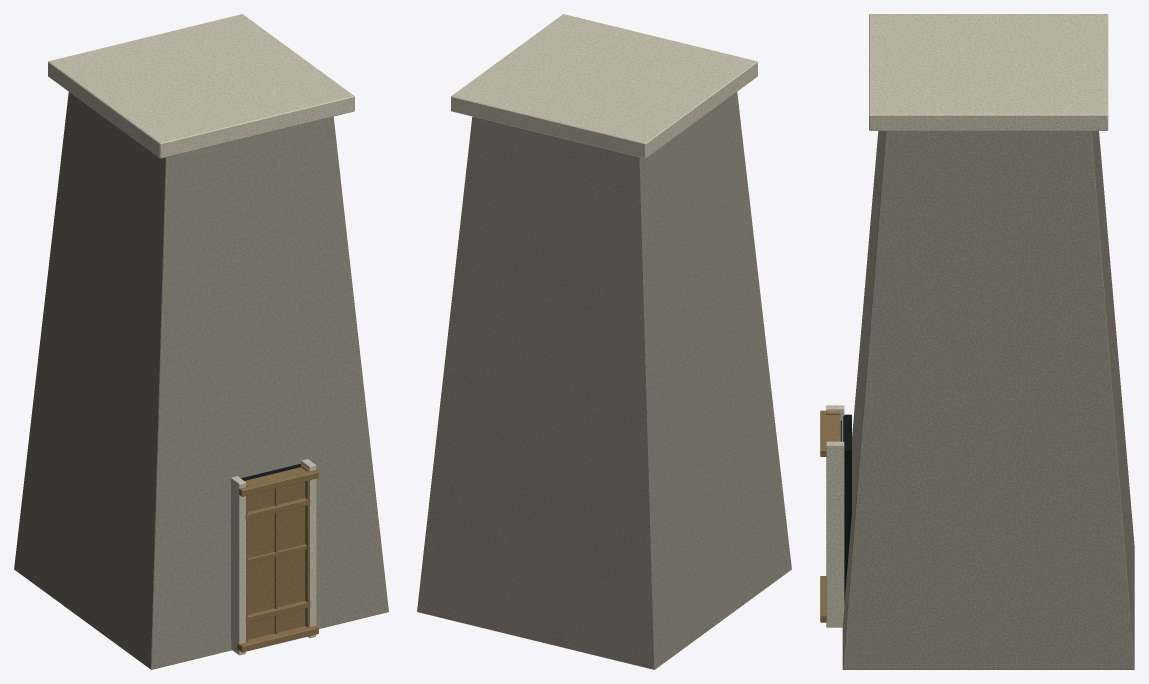
The model's file is TOWERB2_lod1.glb.
The picture shows the model from 3 angles, left to right: view 1: azimuth 30°, elevation 25°; view 2: azimuth 150°, elevation 25°; view 3: azimuth 270°, elevation 25°; orthographic projection. The views are drawn at different scales.
Visible parts, largest first — view 1: TOWERB2_LOD1; view 2: TOWERB2_LOD1; view 3: TOWERB2_LOD1.
Part boxes in pixels (<box>): TOWERB2_LOD1: <box>14,14,388,669</box>; TOWERB2_LOD1: <box>417,14,791,669</box>; TOWERB2_LOD1: <box>820,14,1134,669</box>.
Bounding box in the file's own units: 4 × 8.23 × 4.3.
5 materials, 3 textured.
